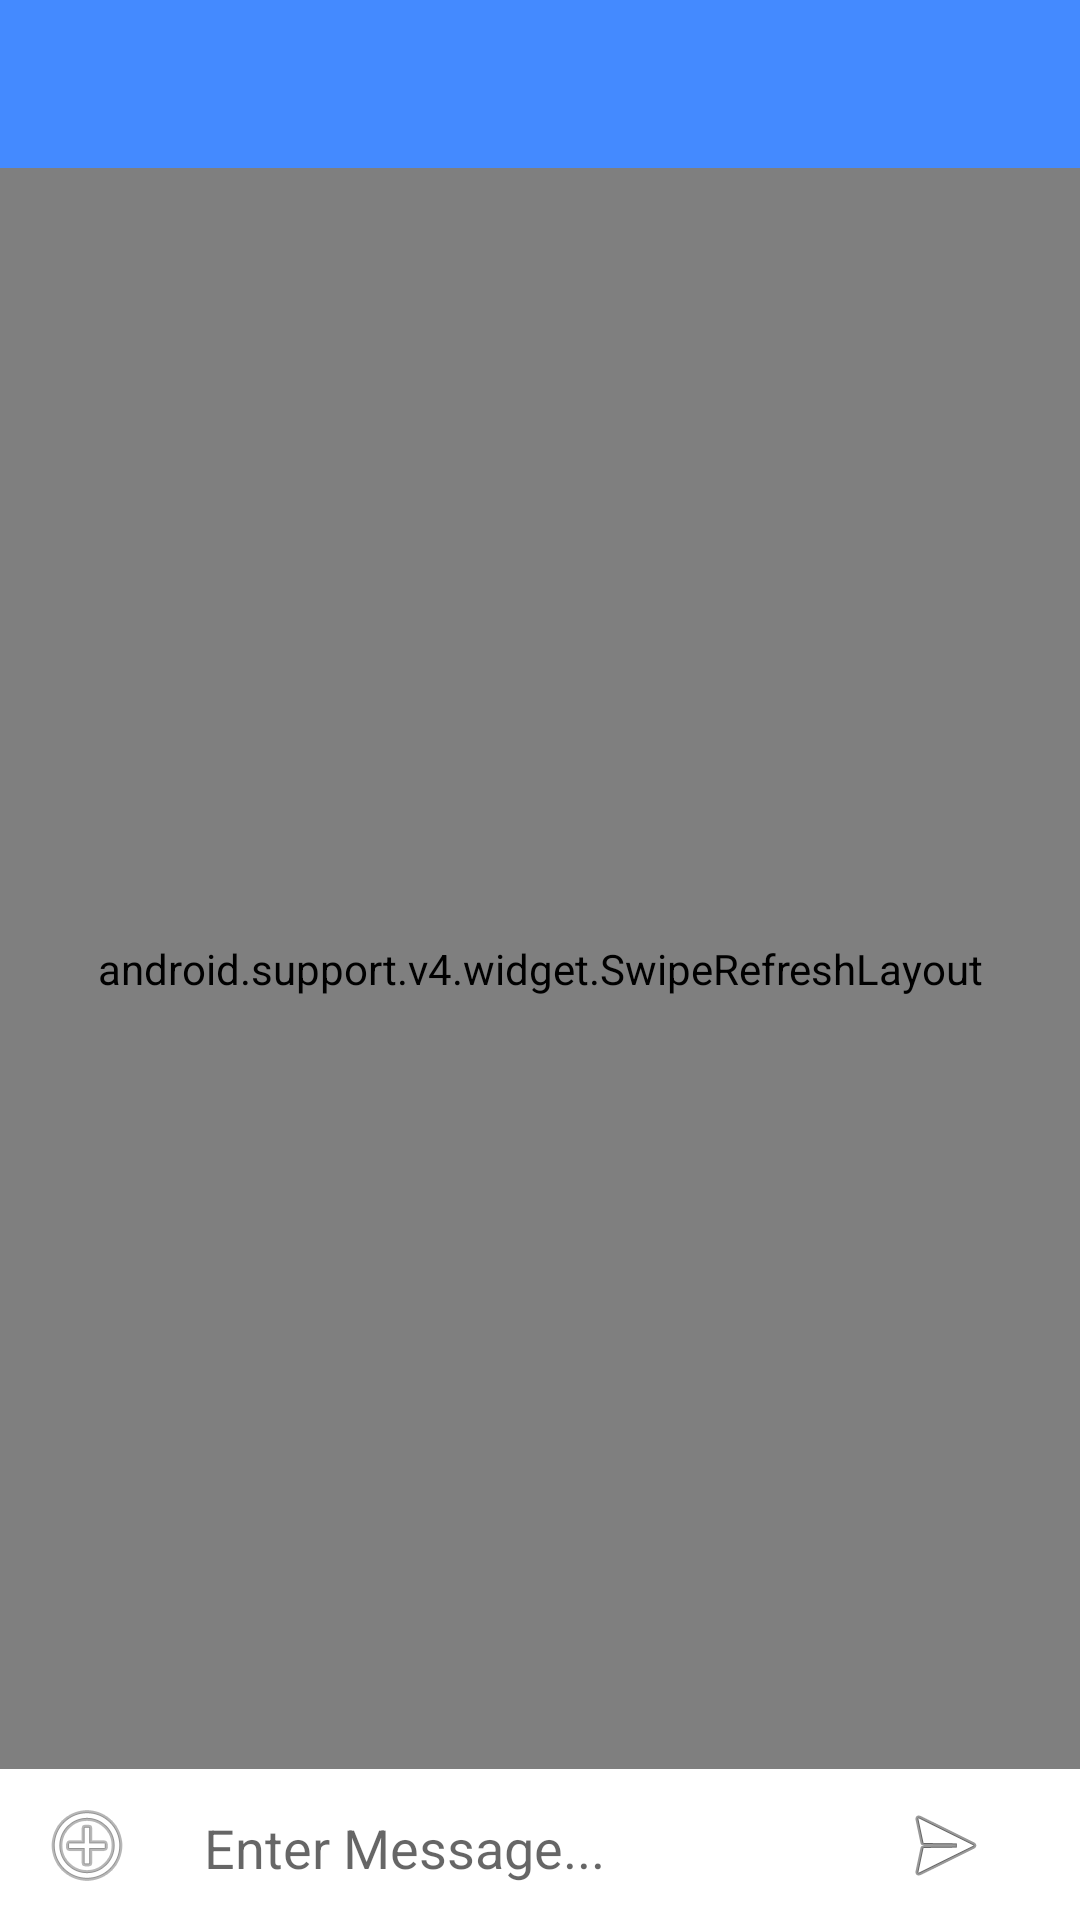

Locate icon controls on the screen. Image size 1080w x 1920h, boxes as detection(x1, y1, x2, y2).
add: detection(52, 1810, 122, 1881)
send: detection(915, 1815, 977, 1876)
